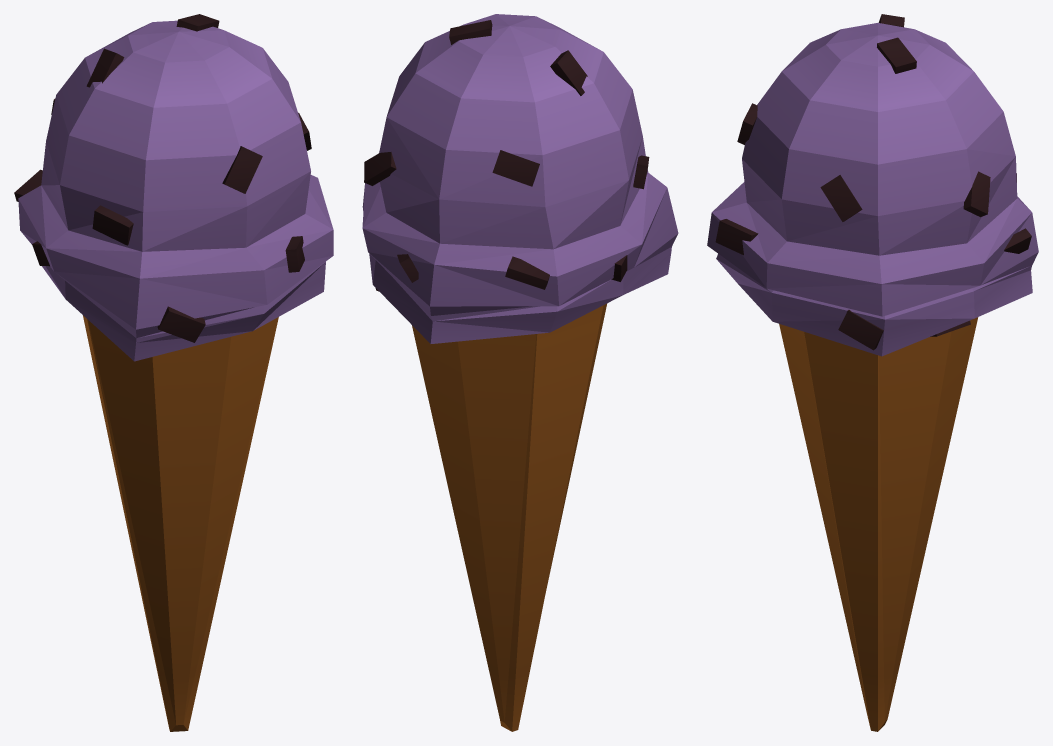
File: x_icecream.fbx
3 views of the same model, side by side, from view 1: azimuth 30°, elevation 25°; view 2: azimuth 150°, elevation 25°; view 3: azimuth 270°, elevation 25° (orthographic).
Parts seen in each view (by area): view 1: x_icecream_baked; view 2: x_icecream_baked; view 3: x_icecream_baked.
Part boxes in pixels (x1,y1,x2,y2): x_icecream_baked: [14, 14, 333, 731]; x_icecream_baked: [362, 14, 678, 731]; x_icecream_baked: [707, 14, 1038, 731].
Bounding box in the file's own units: 0.3252 × 0.789 × 0.3413.
